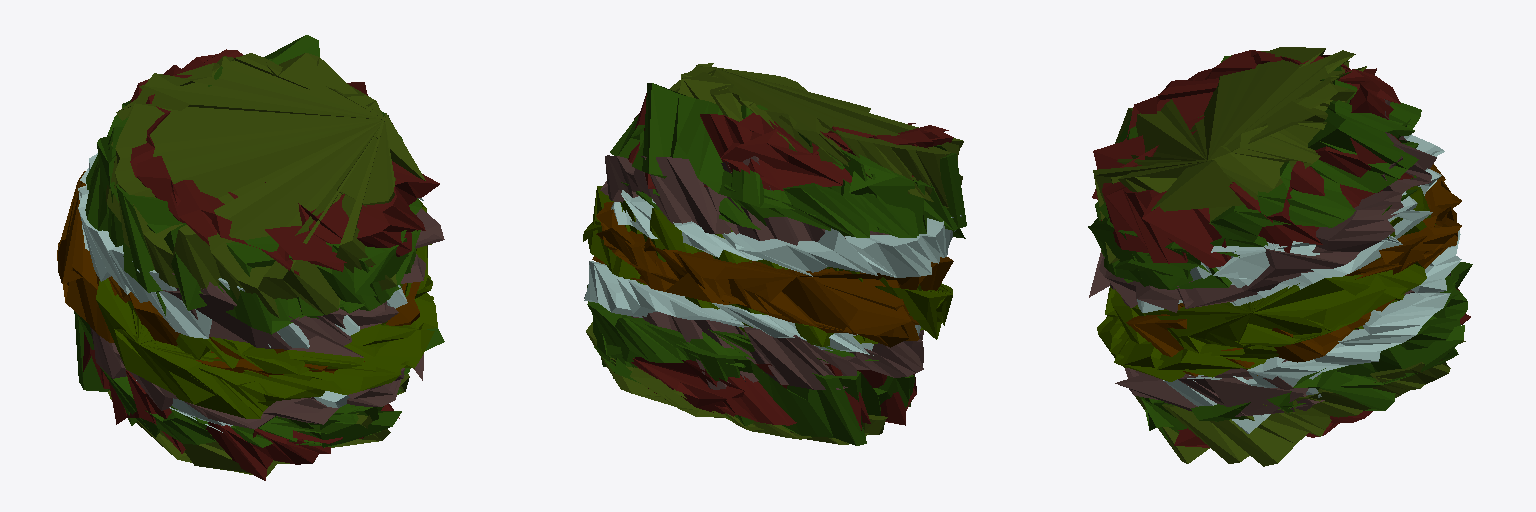
File: world.obj
3 renders of one model, left to right at view 1: azimuth 30°, elevation 25°; view 2: azimuth 150°, elevation 25°; view 3: azimuth 270°, elevation 25°, orthographic.
Parts seen in each view (by area): view 1: Cilindro.002; view 2: Cilindro.002; view 3: Cilindro.002.
Part boxes in pixels (left/top/right/bottom): Cilindro.002: left=57, top=35, right=444, bottom=480; Cilindro.002: left=583, top=63, right=966, bottom=445; Cilindro.002: left=1088, top=47, right=1472, bottom=466.
Bounding box in the file's own units: 5.25 × 5.31 × 5.2.